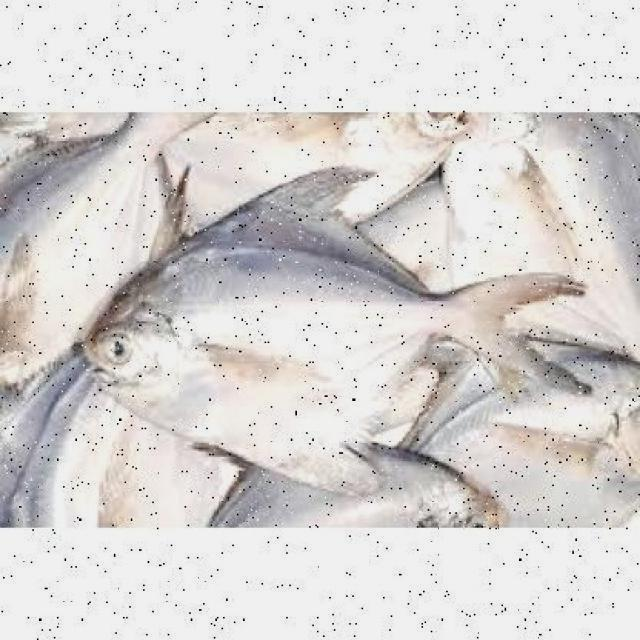ikan-pacu: (86, 183, 568, 462)
